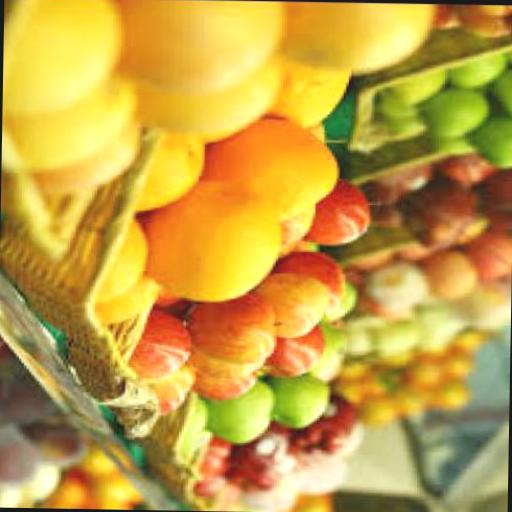biodegradable: (147, 182, 290, 306), (114, 0, 291, 95), (203, 119, 345, 220), (4, 68, 139, 172), (5, 0, 124, 117), (135, 50, 287, 140), (282, 2, 438, 76), (38, 104, 148, 194), (193, 293, 288, 366), (405, 183, 485, 254), (270, 66, 358, 130), (98, 214, 152, 308), (264, 272, 340, 338), (142, 134, 202, 215), (280, 252, 354, 314), (208, 375, 274, 444), (309, 183, 375, 246), (134, 316, 194, 385), (196, 333, 280, 382), (301, 398, 361, 462), (260, 326, 328, 376), (272, 374, 332, 430), (95, 279, 163, 327), (366, 264, 432, 313), (428, 90, 490, 140), (368, 266, 430, 315), (236, 446, 298, 494), (0, 378, 55, 430), (33, 418, 95, 464), (370, 162, 432, 208), (423, 250, 478, 300), (0, 425, 46, 482), (240, 422, 288, 476), (243, 470, 302, 512), (297, 454, 352, 496), (150, 358, 198, 406), (420, 302, 464, 352), (472, 228, 511, 284), (474, 115, 512, 169), (203, 367, 263, 400), (395, 71, 450, 107), (280, 207, 318, 259), (456, 54, 510, 90), (92, 474, 146, 508), (471, 287, 510, 333), (443, 155, 495, 188), (484, 169, 512, 228), (320, 326, 350, 378), (60, 474, 104, 508), (328, 283, 362, 326), (413, 355, 453, 391), (376, 92, 428, 119), (204, 439, 236, 482), (388, 320, 423, 359), (384, 114, 429, 144), (459, 15, 512, 40), (426, 133, 478, 156), (361, 398, 403, 426), (400, 386, 432, 420), (188, 403, 208, 455), (349, 426, 376, 464), (346, 328, 376, 362), (369, 370, 404, 399), (491, 69, 512, 117), (434, 385, 474, 410), (82, 453, 124, 476), (165, 290, 197, 319), (332, 379, 369, 404), (458, 330, 493, 356), (350, 316, 396, 334), (201, 475, 230, 500), (211, 486, 241, 510), (161, 390, 190, 414), (296, 494, 334, 512), (358, 252, 390, 272), (454, 5, 512, 16), (435, 5, 459, 30), (405, 243, 437, 261), (448, 358, 476, 378), (346, 360, 375, 378), (317, 118, 332, 144), (506, 48, 512, 68), (310, 245, 320, 255), (511, 6, 512, 39)
